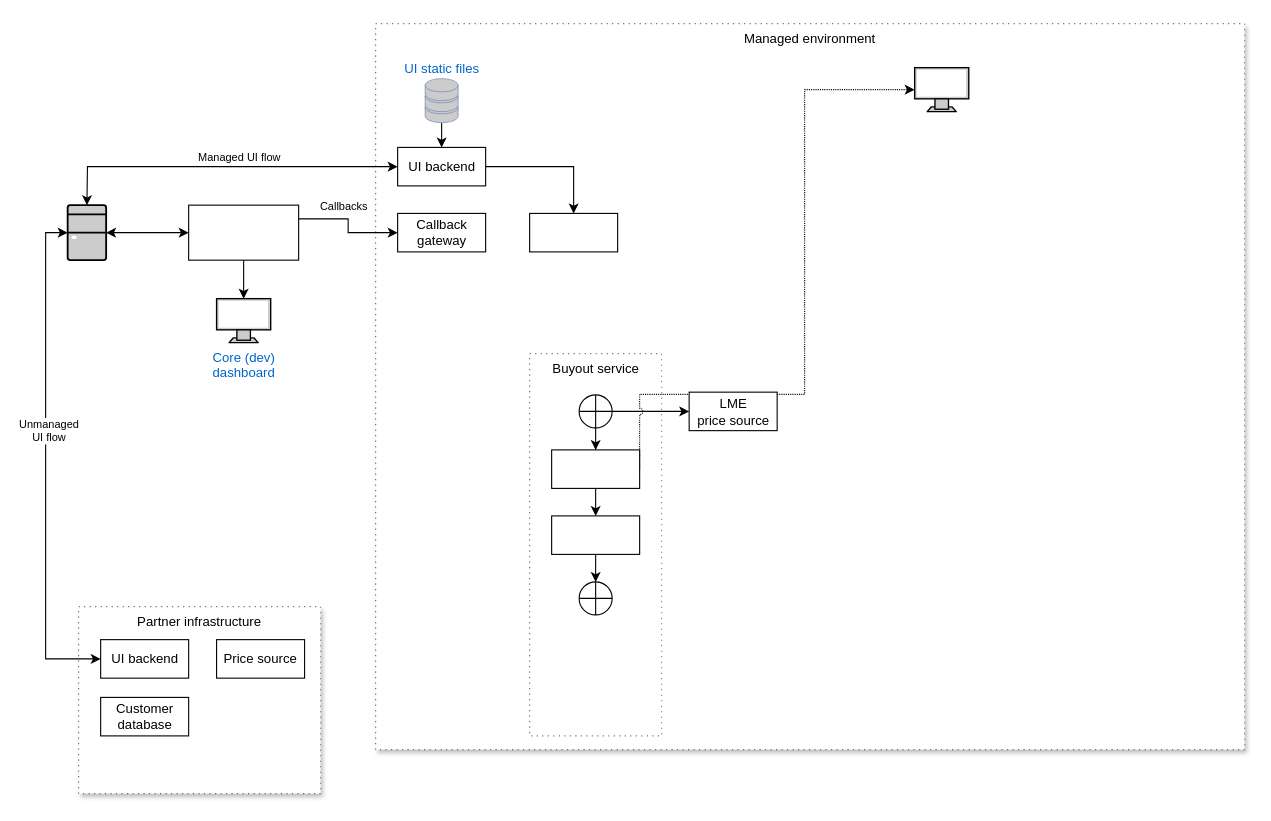
This 1271x821 diagram has some shape labels left out. The centre of each missing label's shape, as x and y in pixels:
"Business dashboard" belongs at point 941,89.
"Core backend" belongs at point 243,232.
"Customer identity" belongs at point 573,232.
"Deal" belongs at point 595,534.
"Estimation" belongs at point 595,468.
"Goldex robot" belongs at point 86,232.
